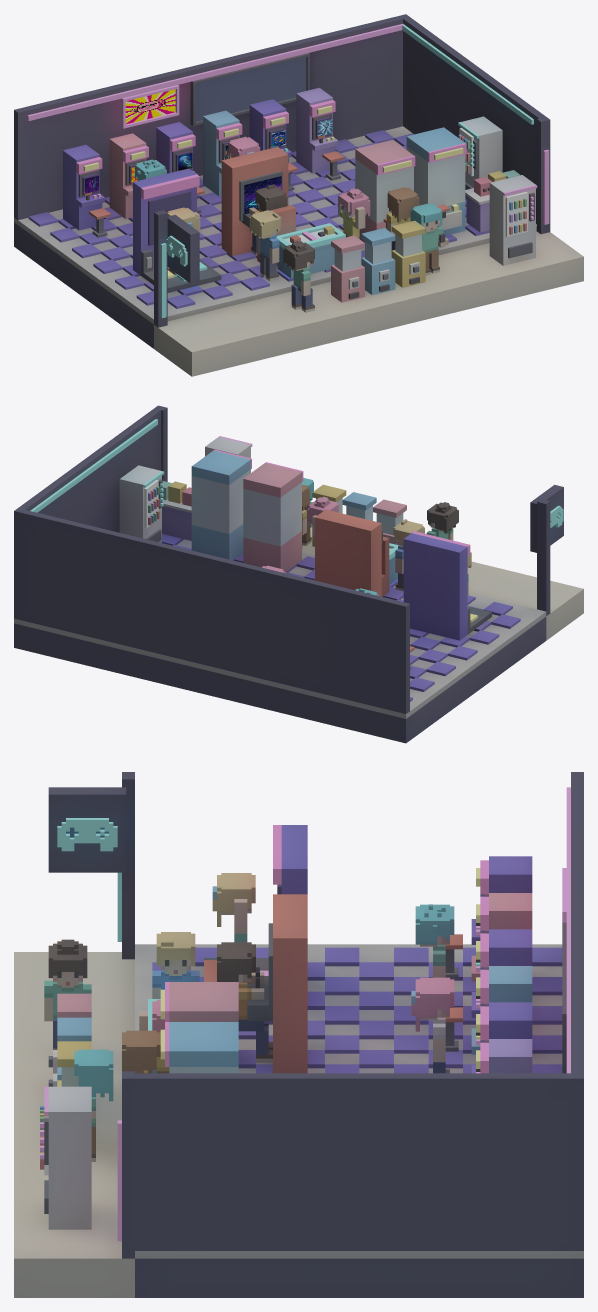
The model's file is raum_spielhalle.glb.
3 views of the same model, one above another, from view 1: azimuth 30°, elevation 25°; view 2: azimuth 150°, elevation 25°; view 3: azimuth 270°, elevation 25° (orthographic). The views are drawn at different scales.
Parts seen in each view (by area): view 1: Spielhalle, Raum_Gehweg, Strassenleben, Spielhalle_Meterschirm, Spielhalle_Rennspiel, Spielhalle_Greifautomat_2, Spielhalle_Tanzautomat, Spielhalle_Greifautomat_1, Raum_Sockel, Spielhalle_Getraenkeautomat, Spielhalle_Fahnenschild, Spielhalle_Airhockey (+8 smaller); view 2: Spielhalle, Raum_Sockel, Spielhalle_Tanzautomat, Spielhalle_Greifautomat_1, Spielhalle_Greifautomat_2, Spielhalle_Rennspiel, Raum_Gehweg, Spielhalle_Getraenkeautomat, Strassenleben, Spielhalle_Preistheke, Spielhalle_Fahnenschild, Spielhalle_Airhockey_Spieler_1 (+1 smaller); view 3: Spielhalle, Raum_Gehweg, Raum_Sockel, Strassenleben, Spielhalle_Rennspiel, Spielhalle_Fahnenschild, Spielhalle_Greifautomat_2, Spielhalle_Greifautomat_1, Spielhalle_Fahrer, Spielhalle_Tanzautomat, Spielhalle_Airhockey_Spieler_1, Spielhalle_Taenzerin (+3 smaller).
Boxes of the visible parts, x1,y1,x2,y2 form: Spielhalle: [14, 14, 550, 327]; Raum_Gehweg: [154, 231, 583, 376]; Strassenleben: [283, 175, 537, 312]; Spielhalle_Meterschirm: [190, 53, 309, 126]; Spielhalle_Rennspiel: [221, 147, 295, 266]; Spielhalle_Greifautomat_2: [406, 127, 466, 235]; Spielhalle_Tanzautomat: [133, 168, 221, 292]; Spielhalle_Greifautomat_1: [355, 140, 415, 242]; Raum_Sockel: [14, 222, 153, 348]; Spielhalle_Getraenkeautomat: [458, 116, 502, 199]; Spielhalle_Fahnenschild: [166, 214, 199, 283]; Spielhalle_Airhockey: [276, 223, 345, 278]; Spielhalle: [14, 405, 550, 718]; Raum_Sockel: [14, 617, 546, 743]; Spielhalle_Tanzautomat: [403, 531, 491, 640]; Spielhalle_Greifautomat_1: [243, 462, 303, 572]; Spielhalle_Greifautomat_2: [191, 449, 251, 560]; Spielhalle_Rennspiel: [315, 509, 389, 596]; Raum_Gehweg: [302, 527, 583, 640]; Spielhalle_Getraenkeautomat: [119, 465, 164, 542]; Strassenleben: [205, 436, 458, 545]; Spielhalle_Preistheke: [162, 481, 191, 540]; Spielhalle_Fahnenschild: [530, 484, 563, 552]; Spielhalle_Airhockey_Spieler_1: [393, 519, 424, 591]; Spielhalle: [48, 772, 583, 1258]; Raum_Gehweg: [14, 952, 134, 1297]; Raum_Sockel: [135, 1258, 583, 1297]; Strassenleben: [40, 939, 113, 1229]; Spielhalle_Rennspiel: [204, 894, 307, 1073]; Spielhalle_Fahnenschild: [48, 787, 126, 872]; Spielhalle_Greifautomat_2: [160, 1022, 238, 1073]; Spielhalle_Greifautomat_1: [160, 982, 238, 1021]; Spielhalle_Fahrer: [217, 942, 272, 1062]; Spielhalle_Tanzautomat: [204, 825, 307, 975]; Spielhalle_Airhockey_Spieler_1: [152, 932, 199, 998]; Spielhalle_Taenzerin: [212, 873, 255, 942].
Bounding box in the file's own units: 10.5 × 3.5 × 8.25.
Materials: 10 (8 with a texture image).
